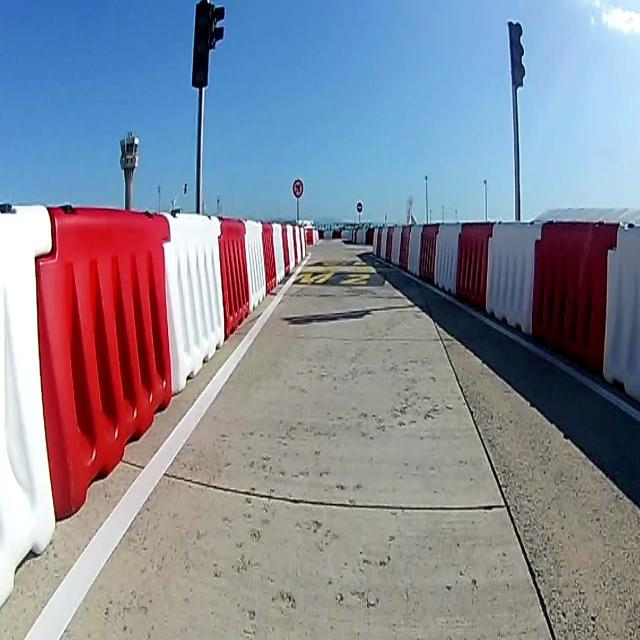girisyok: (357, 202, 363, 213)
soladonulmez: (292, 178, 304, 198)
